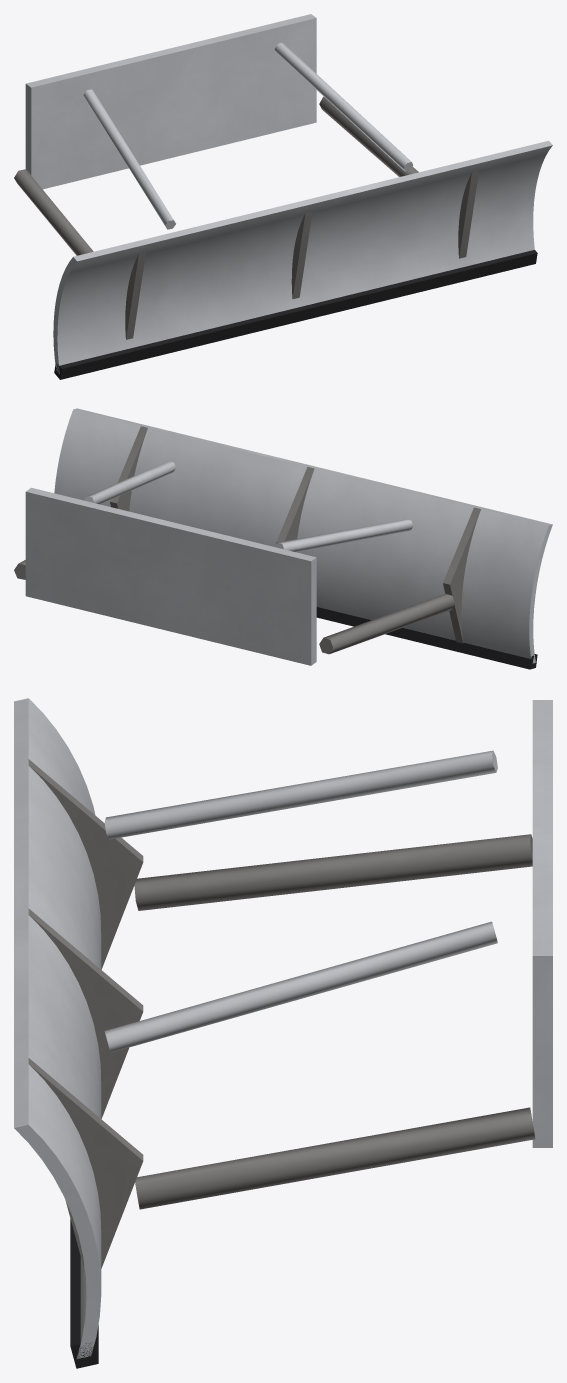
Rendered from rover32_dozer_scoop_m_lowered.glb.
3 views of the same model, one above another, from view 1: azimuth 30°, elevation 25°; view 2: azimuth 150°, elevation 25°; view 3: azimuth 270°, elevation 25° (orthographic). The views are drawn at different scales.
Parts seen in each view (by area): view 1: blade, mount_plate, blade_edge, arm_rams, blade_ribs, arm_push; view 2: blade, mount_plate, blade_ribs, arm_rams, arm_push, blade_edge; view 3: blade, arm_push, arm_rams, blade_ribs, mount_plate, blade_edge.
Part boxes in pixels (<box>): blade: <box>53,140,552,373</box>; mount_plate: <box>25,14,316,189</box>; blade_edge: <box>54,250,537,379</box>; arm_rams: <box>83,42,413,229</box>; blade_ribs: <box>125,171,478,339</box>; arm_push: <box>14,96,418,255</box>; blade: <box>54,408,552,663</box>; mount_plate: <box>25,487,316,665</box>; blade_ribs: <box>110,426,480,643</box>; arm_rams: <box>84,461,413,551</box>; arm_push: <box>14,560,454,654</box>; blade_edge: <box>316,607,537,669</box>; blade: <box>14,698,101,1358</box>; arm_push: <box>134,834,535,1209</box>; arm_rams: <box>104,750,497,1052</box>; blade_ribs: <box>28,759,143,1268</box>; mount_plate: <box>532,700,552,1147</box>; blade_edge: <box>70,1219,98,1368</box>.
Bounding box in the file's own units: 2 × 0.7158 × 1.07.
Materials: 3 (2 with a texture image).
